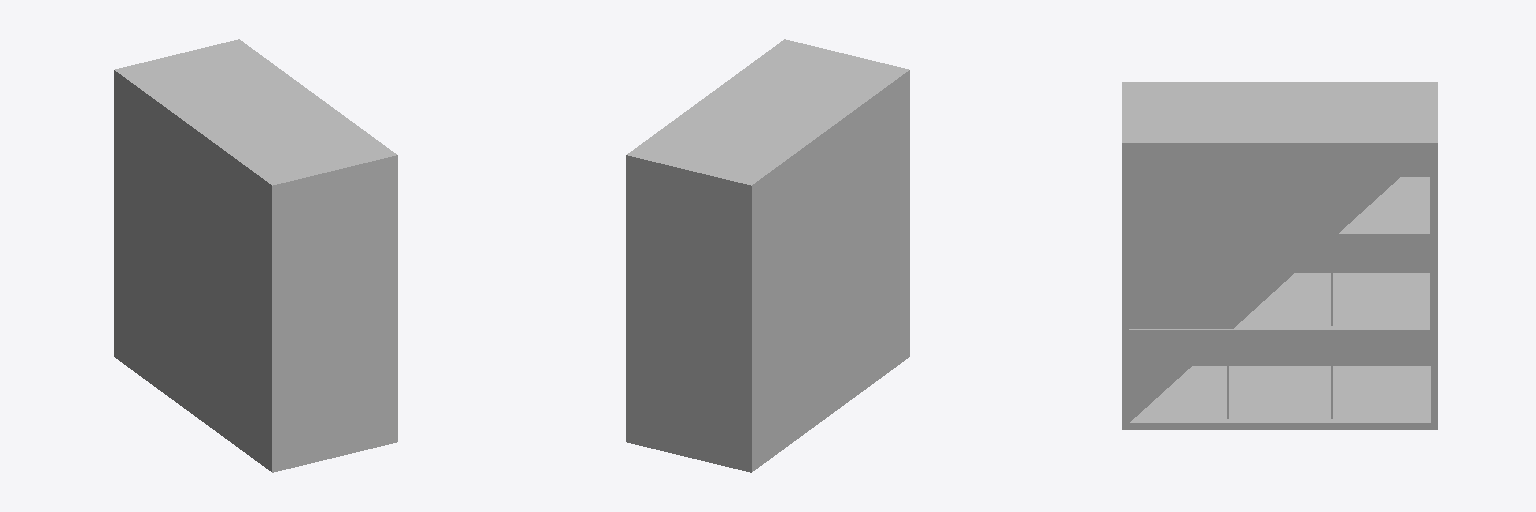
Rendered from yellow_cabinet.obj.
3 views of the same model, side by side, from view 1: azimuth 30°, elevation 25°; view 2: azimuth 150°, elevation 25°; view 3: azimuth 270°, elevation 25° (orthographic).
Visible parts, largest first — view 1: Cube_Cube.001; view 2: Cube_Cube.001; view 3: Cube_Cube.001.
Part boxes in pixels (bbox=[...]): Cube_Cube.001: bbox=[114, 39, 397, 472]; Cube_Cube.001: bbox=[626, 39, 909, 472]; Cube_Cube.001: bbox=[1122, 82, 1437, 429].
Size of the model in its own units: 1.53 by 3.35 by 3.35.